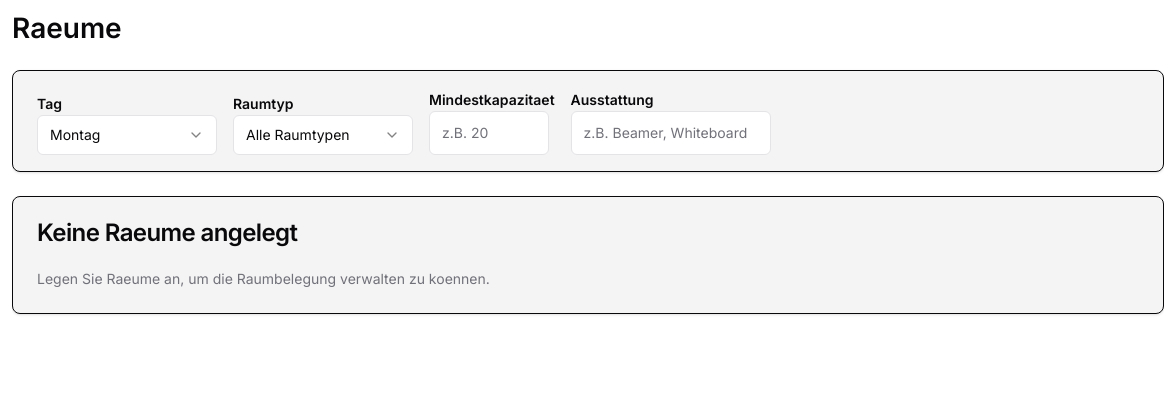
Test case: RoomsPage — German enum + filter-aware empty state regression guard › Empty state with active Raumtyp filter shows the filter-aware copy
Click the dropdown labelled "Alle Raumtypen".
click(323, 135)  # box [233,115,413,155]
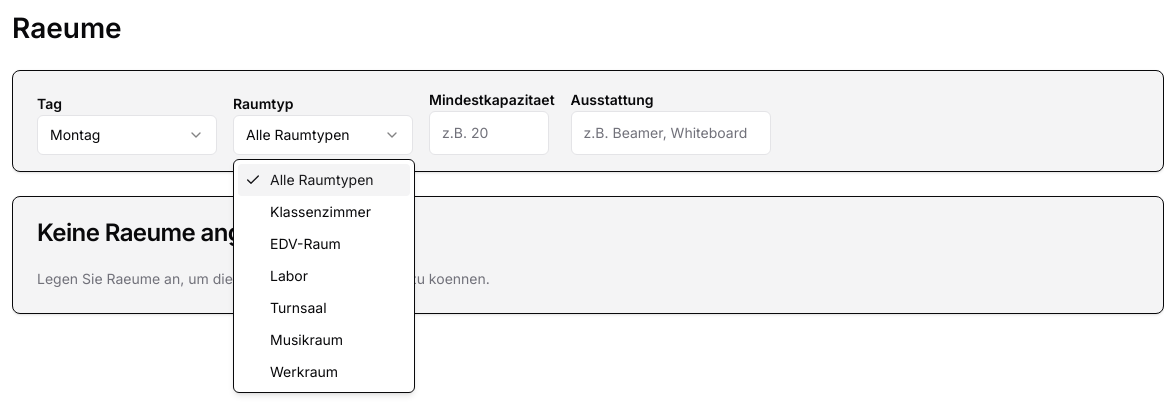
Click the option "Klassenzimmer".
click(320, 212)  # box [270,203,371,220]
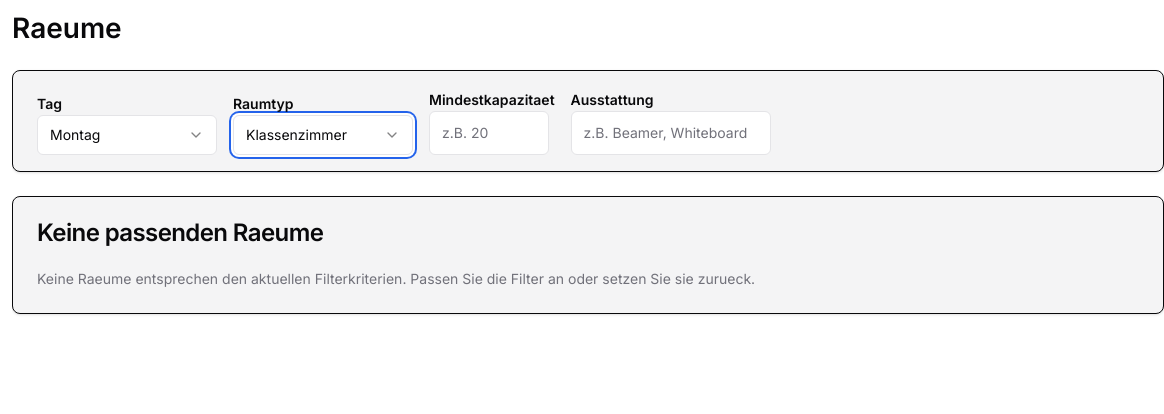
Now the text "Keine passenden Raeume" is shown, box [37,218,323,247]
Now the text "Keine Raeume entsprechen den aktuellen Filterkriterien" is shown, box [37,270,755,287]
Now the text "Keine Raeume angelegt" is gone
